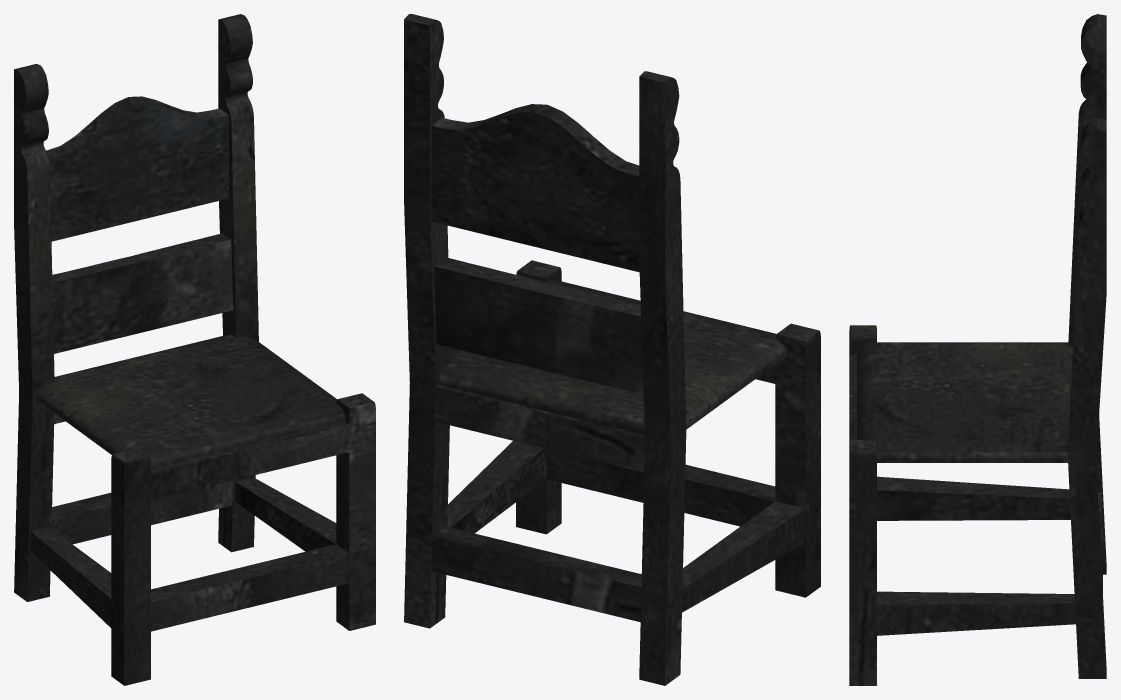
File: SM_Chair_04.fbx
The picture shows the model from 3 angles, left to right: view 1: azimuth 30°, elevation 25°; view 2: azimuth 150°, elevation 25°; view 3: azimuth 270°, elevation 25°; orthographic projection. The views are drawn at different scales.
Parts seen in each view (by area): view 1: SM_Chair_04; view 2: SM_Chair_04; view 3: SM_Chair_04.
Boxes of the visible parts, x1=… form: SM_Chair_04: x1=14, y1=14, x2=375, y2=685; SM_Chair_04: x1=404, y1=14, x2=820, y2=685; SM_Chair_04: x1=849, y1=14, x2=1106, y2=685.
Bounding box in the file's own units: 58.92 × 49.84 × 118.
Materials: 1 (1 with a texture image).
